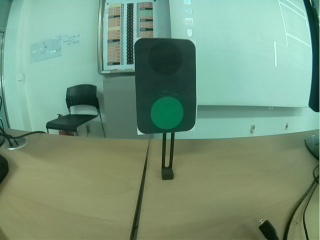green_light: (134, 39, 197, 132)
